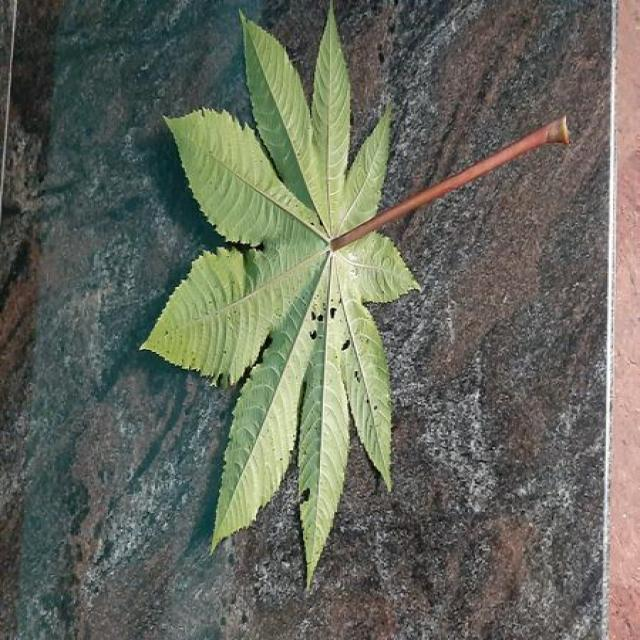alternaria blight: (142, 6, 418, 582)
